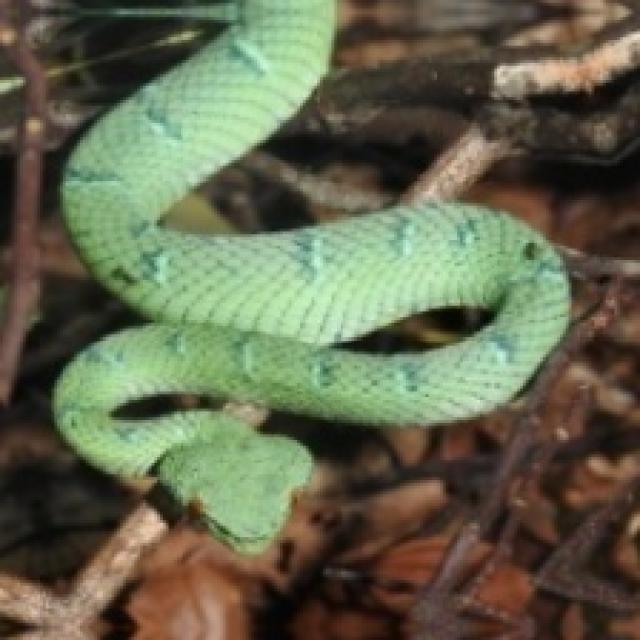north ph temple pitviper: (54, 0, 566, 546)
